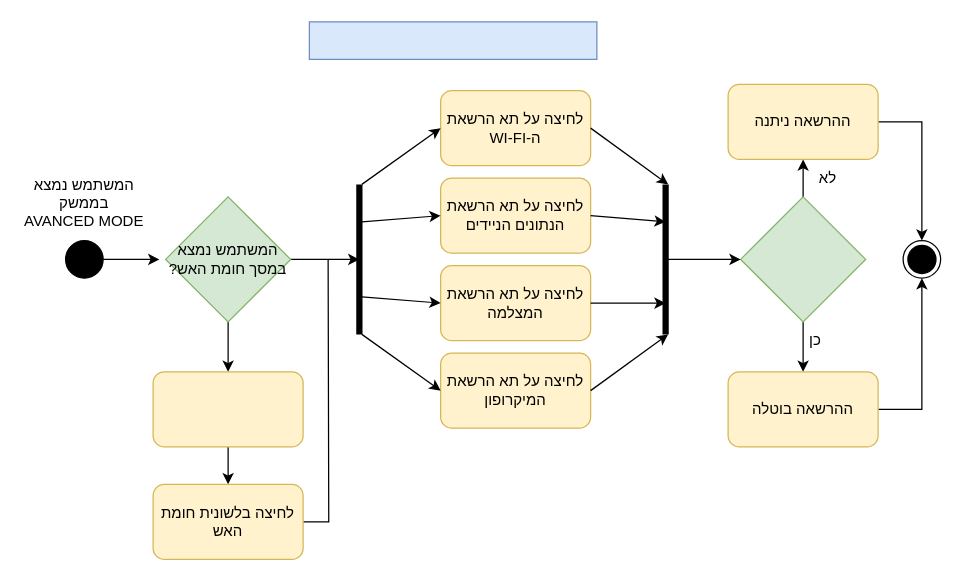
This 963x581 diagram has some shape labels left out. Each missing label, with the box of its shape:
אישור הרשאות אפליקציה: (308, 21, 597, 59)
גישה לטפרית: (152, 371, 303, 447)
ההרשאה פעילה?: (739, 196, 866, 322)
